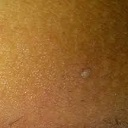Wart: (78, 66, 93, 81)
